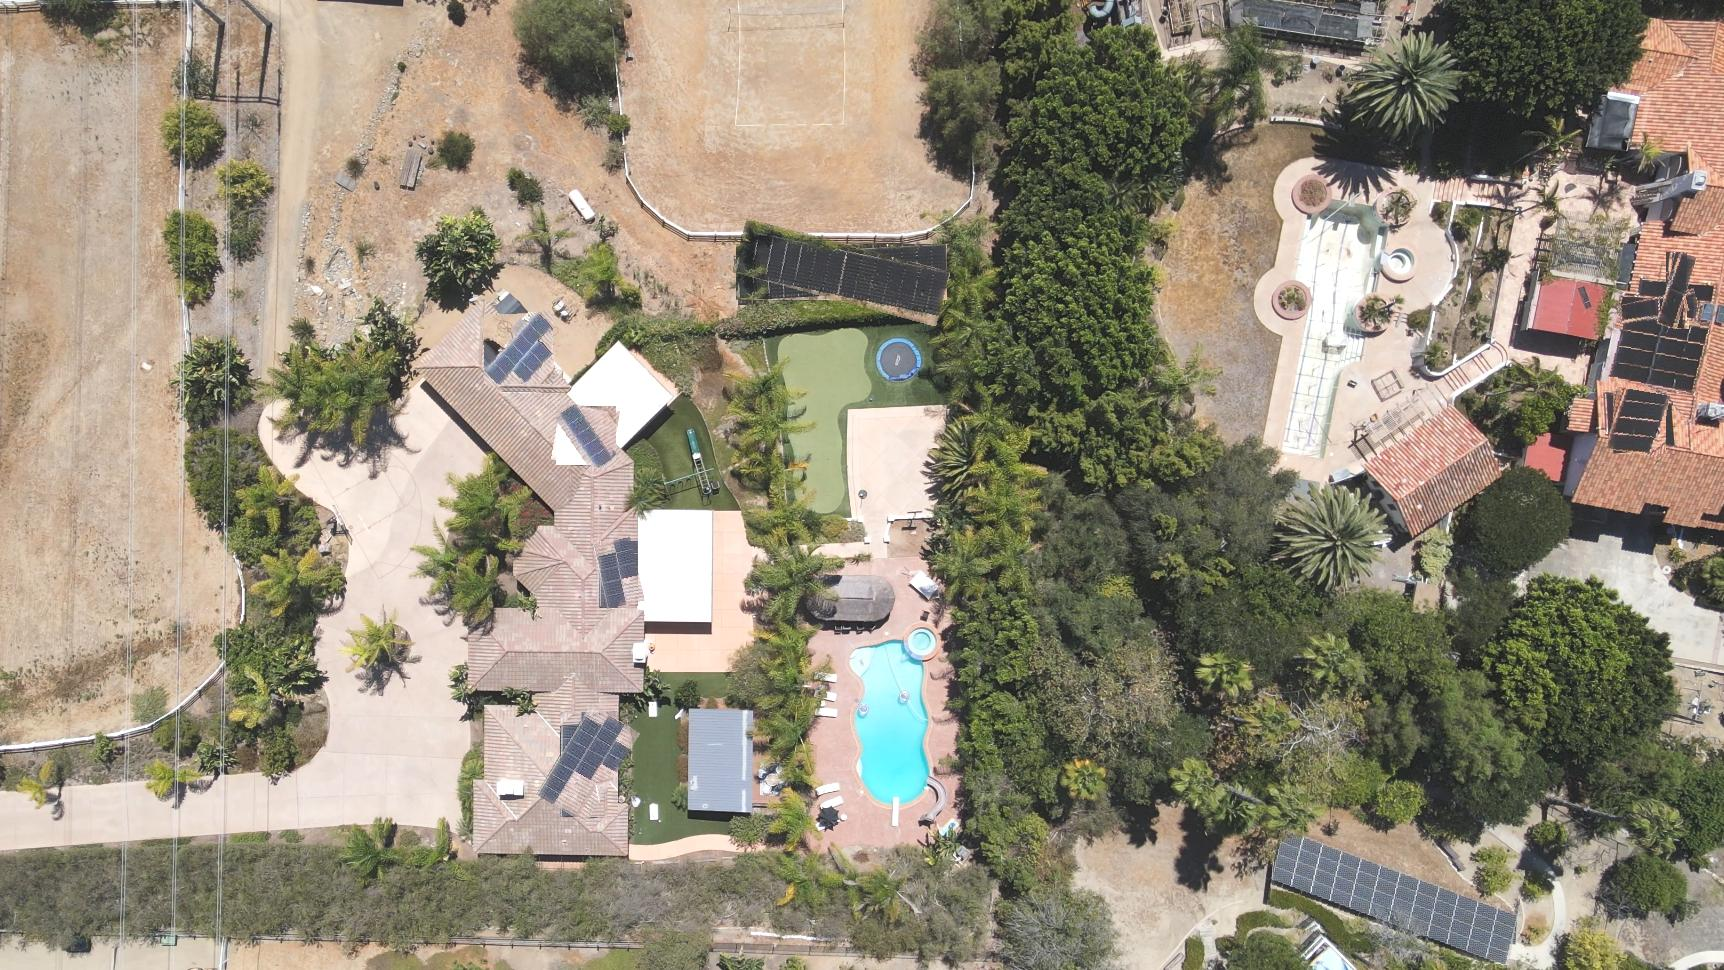solar-panels: (1271, 828, 1518, 965), (736, 226, 950, 315), (538, 715, 632, 804), (1609, 316, 1709, 394), (485, 313, 552, 386), (1607, 385, 1671, 455), (560, 404, 612, 468), (594, 537, 638, 608), (1657, 253, 1696, 328), (1620, 294, 1696, 320)
